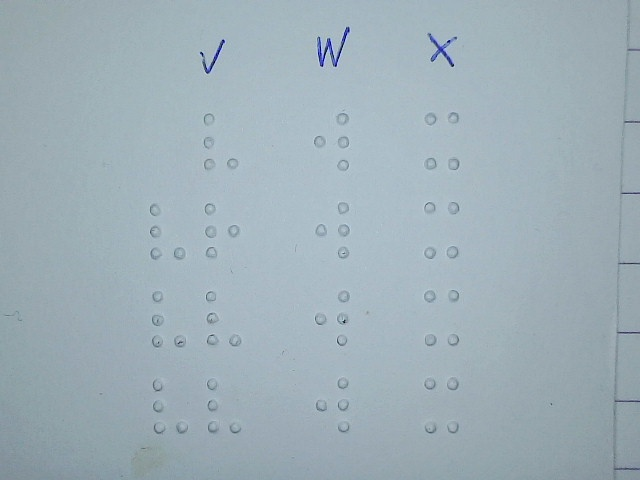V: (202, 110, 241, 172), (148, 200, 187, 262), (149, 288, 188, 350), (203, 287, 242, 349), (205, 374, 244, 436), (151, 374, 190, 436)
W: (312, 110, 351, 172), (314, 198, 353, 260), (313, 287, 352, 349), (314, 373, 353, 435)
X: (422, 109, 461, 171), (422, 198, 461, 260), (422, 286, 461, 348), (422, 374, 461, 436)
